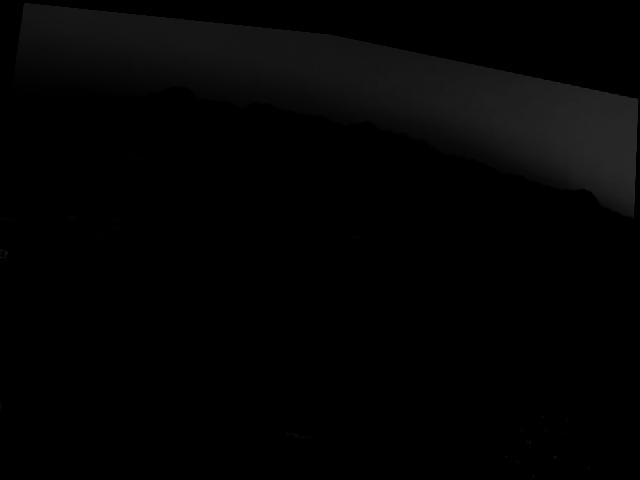hedef: (283, 411, 327, 445), (252, 355, 286, 385)
